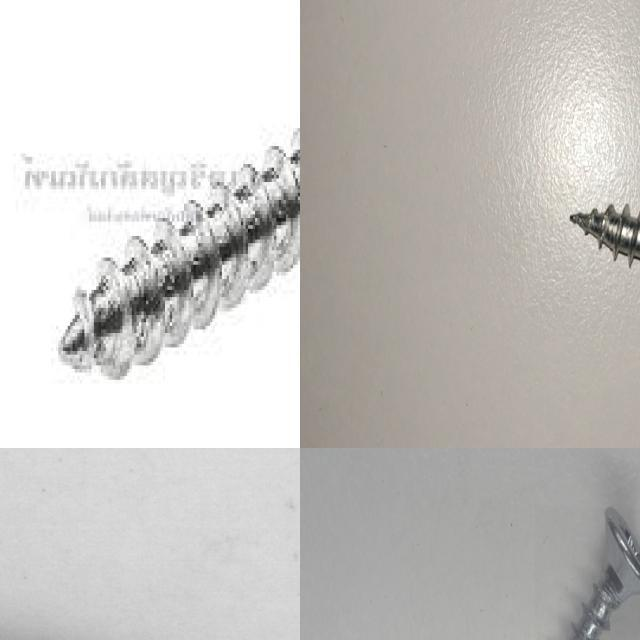Screw: (56, 120, 300, 383), (0, 500, 300, 640), (572, 506, 640, 640), (570, 204, 640, 266)
